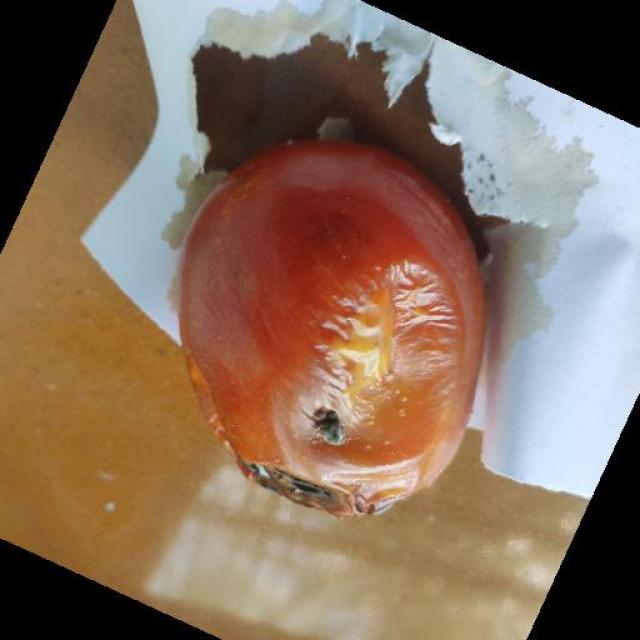Stale_tomato: (194, 161, 449, 551)
